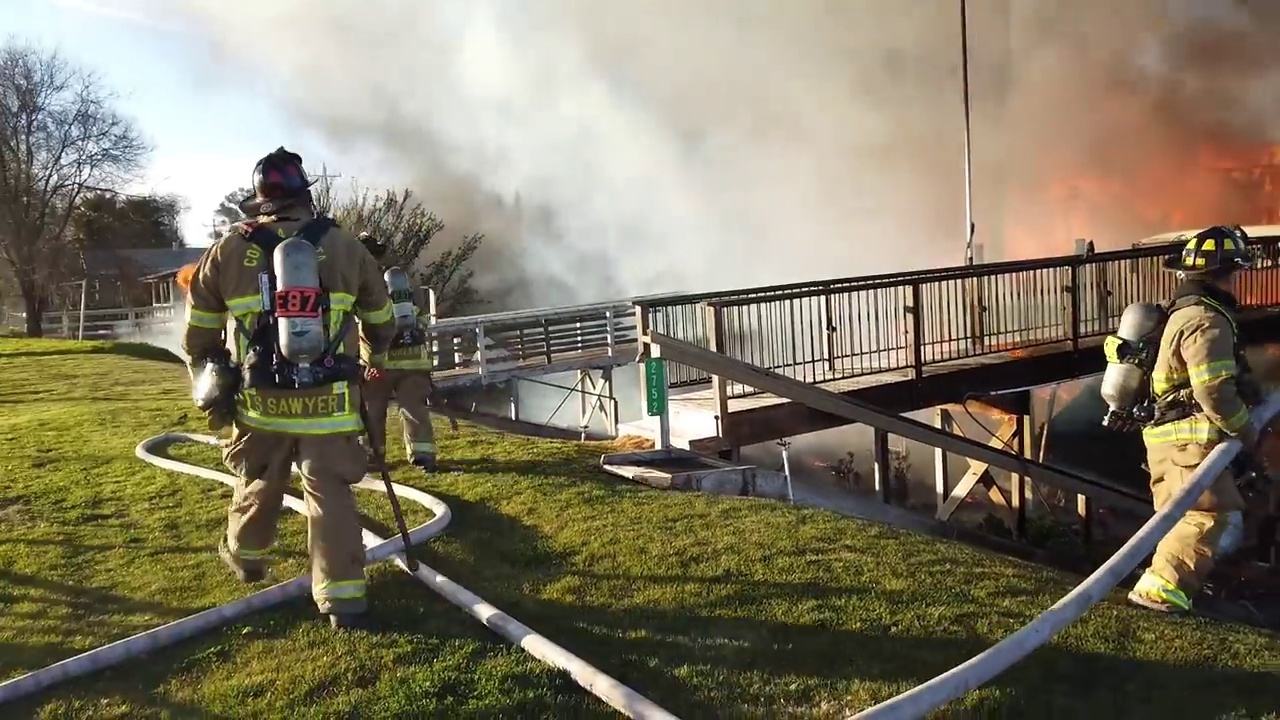fire: (1004, 185, 1229, 255)
smoke: (201, 6, 1001, 267), (1001, 1, 1279, 184), (514, 362, 644, 452), (892, 438, 1011, 515), (795, 424, 873, 489)
